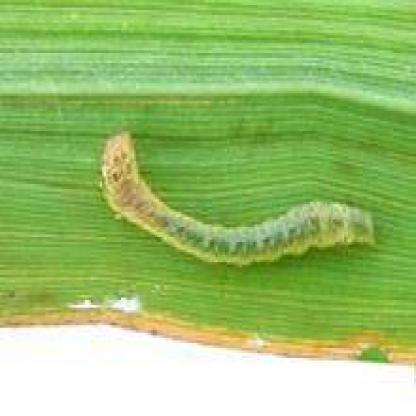leaf-folder: (86, 122, 384, 274)
